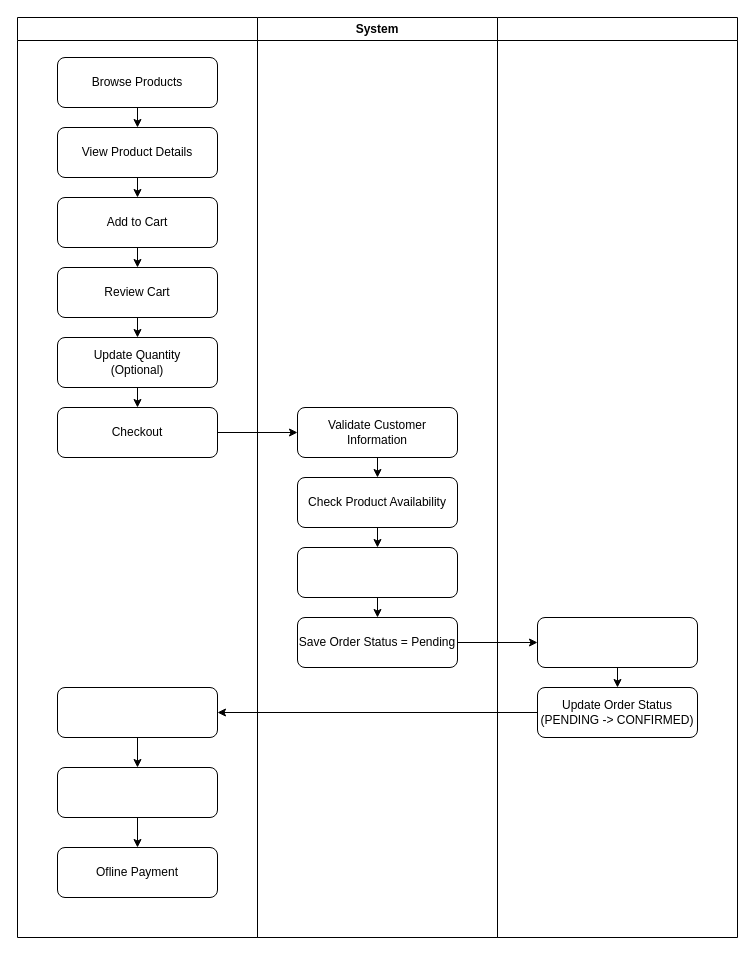
Some shapes in this 755 by 955 pixel diagram are drawn without their labels. Here are the shapes that lost their labels. From the top down, the box of each, then its label:
(16, 16, 258, 938): Customer
(496, 16, 738, 938): Admin
(296, 546, 458, 598): Create Order
(536, 616, 698, 668): Review Order
(56, 686, 218, 738): View Order History
(56, 766, 218, 818): Receive Product
